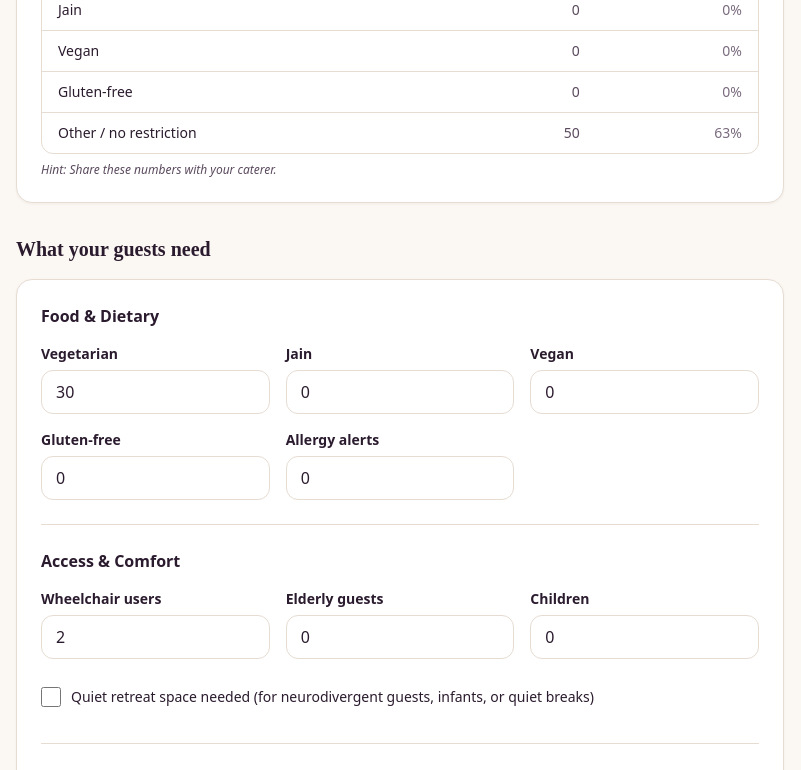
Scenario: UI: Guests Page & Components (TASK 2 & 4) › saving counts bumps version and updates meal table
(page scrolled)
Update vegetarian to 45
Replace the text in the number field labelled "Vegetarian" with "45" at (155, 392), box [41,370,270,414]
(page scrolled)
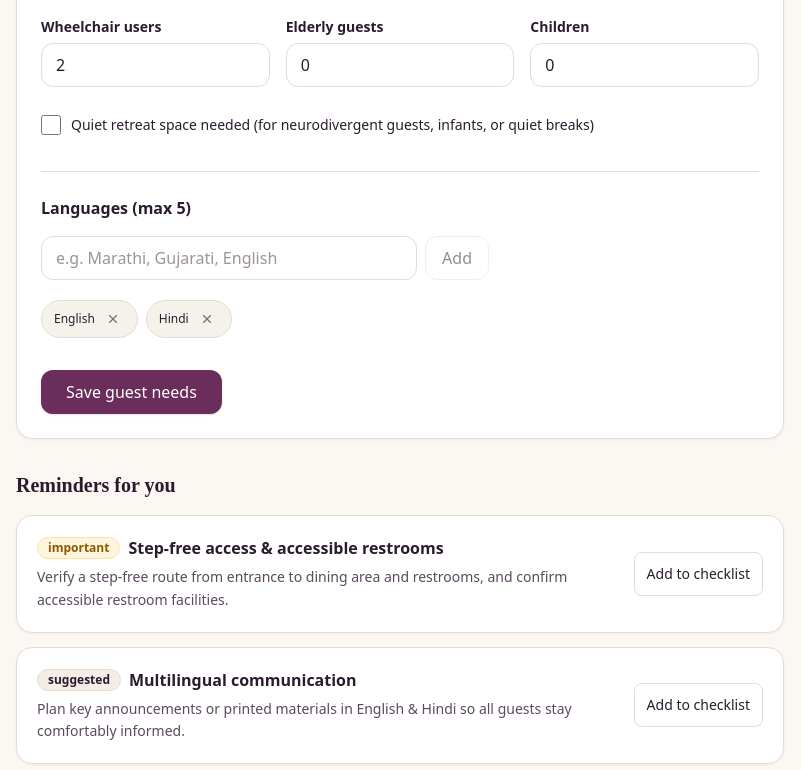
Click the button "Save guest needs" at (131, 392), box [41,370,222,414]
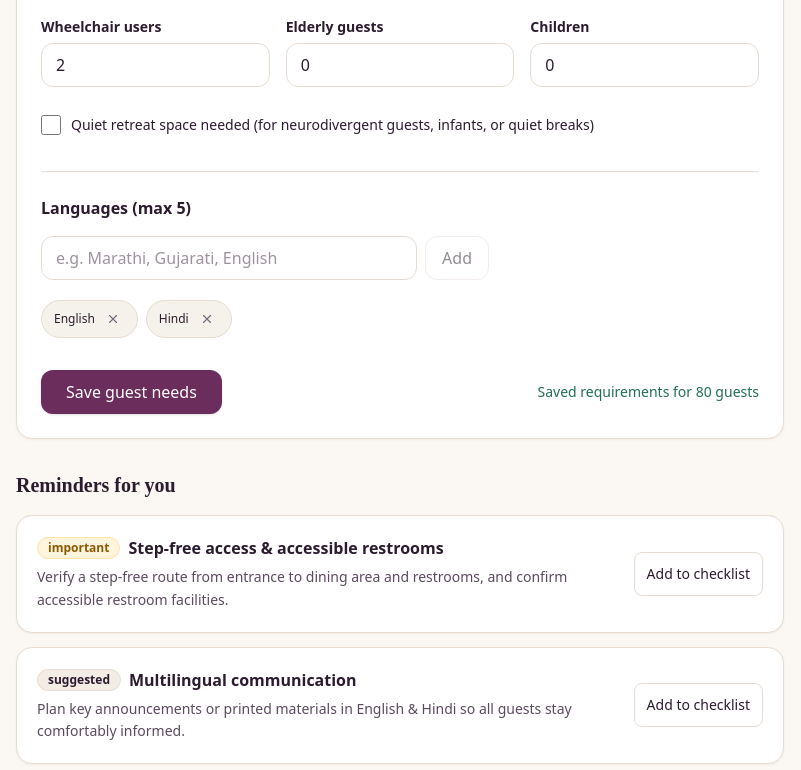
Expected: the text "Saved requirements for 80 guests" is shown, [538,382,759,402]
